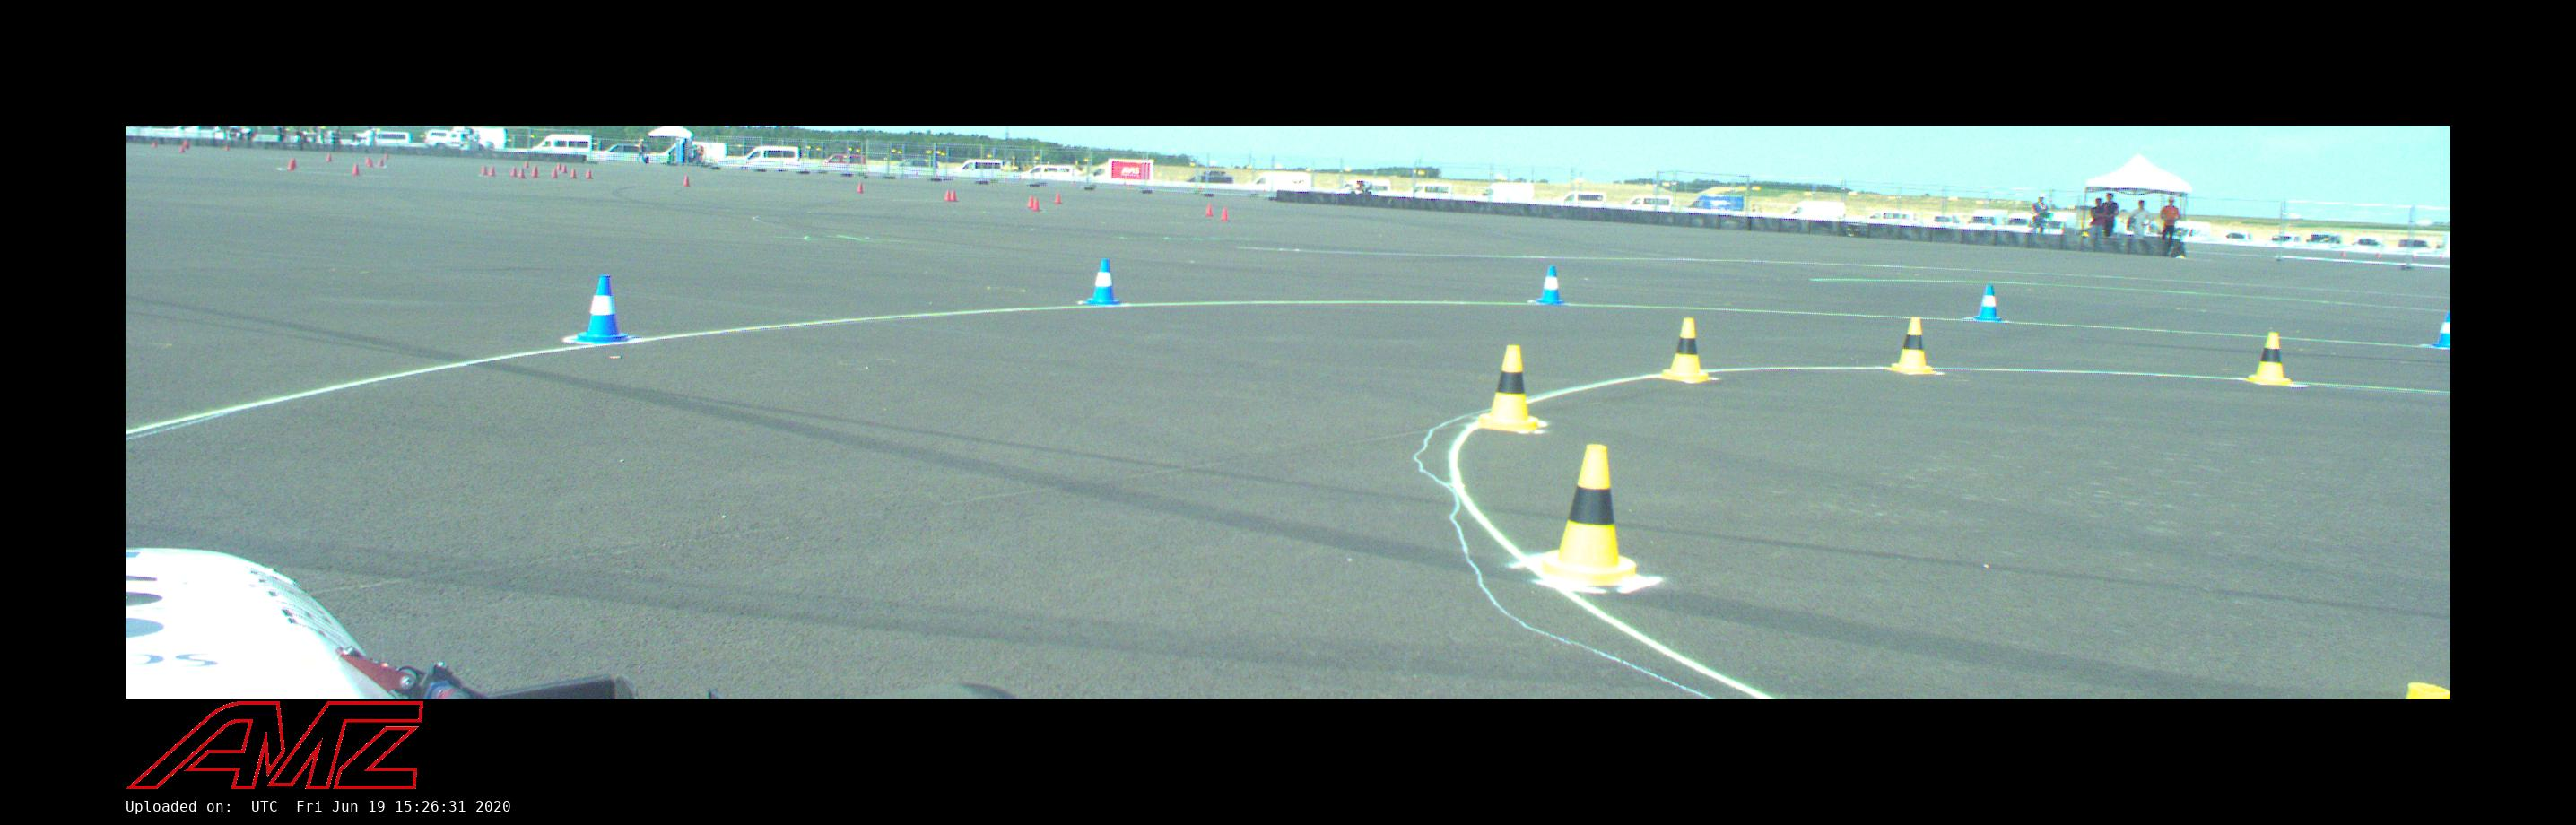blue_cone: (578, 274, 628, 342), (1086, 258, 1120, 306), (1536, 266, 1564, 306), (1975, 286, 2001, 322), (2435, 312, 2451, 347)
yellow_cone: (1544, 445, 1635, 583), (1479, 345, 1538, 429), (1663, 319, 1709, 383), (2249, 332, 2290, 385), (1894, 317, 1932, 373)
